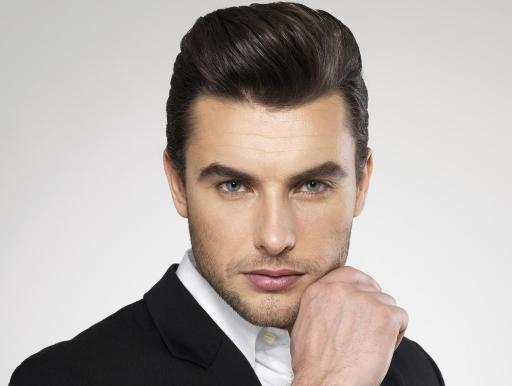left_eye: (292, 177, 338, 197)
left_lip_corner: (295, 268, 312, 282)
right_eye: (212, 178, 256, 196)
right_lip_corner: (236, 268, 254, 283)
